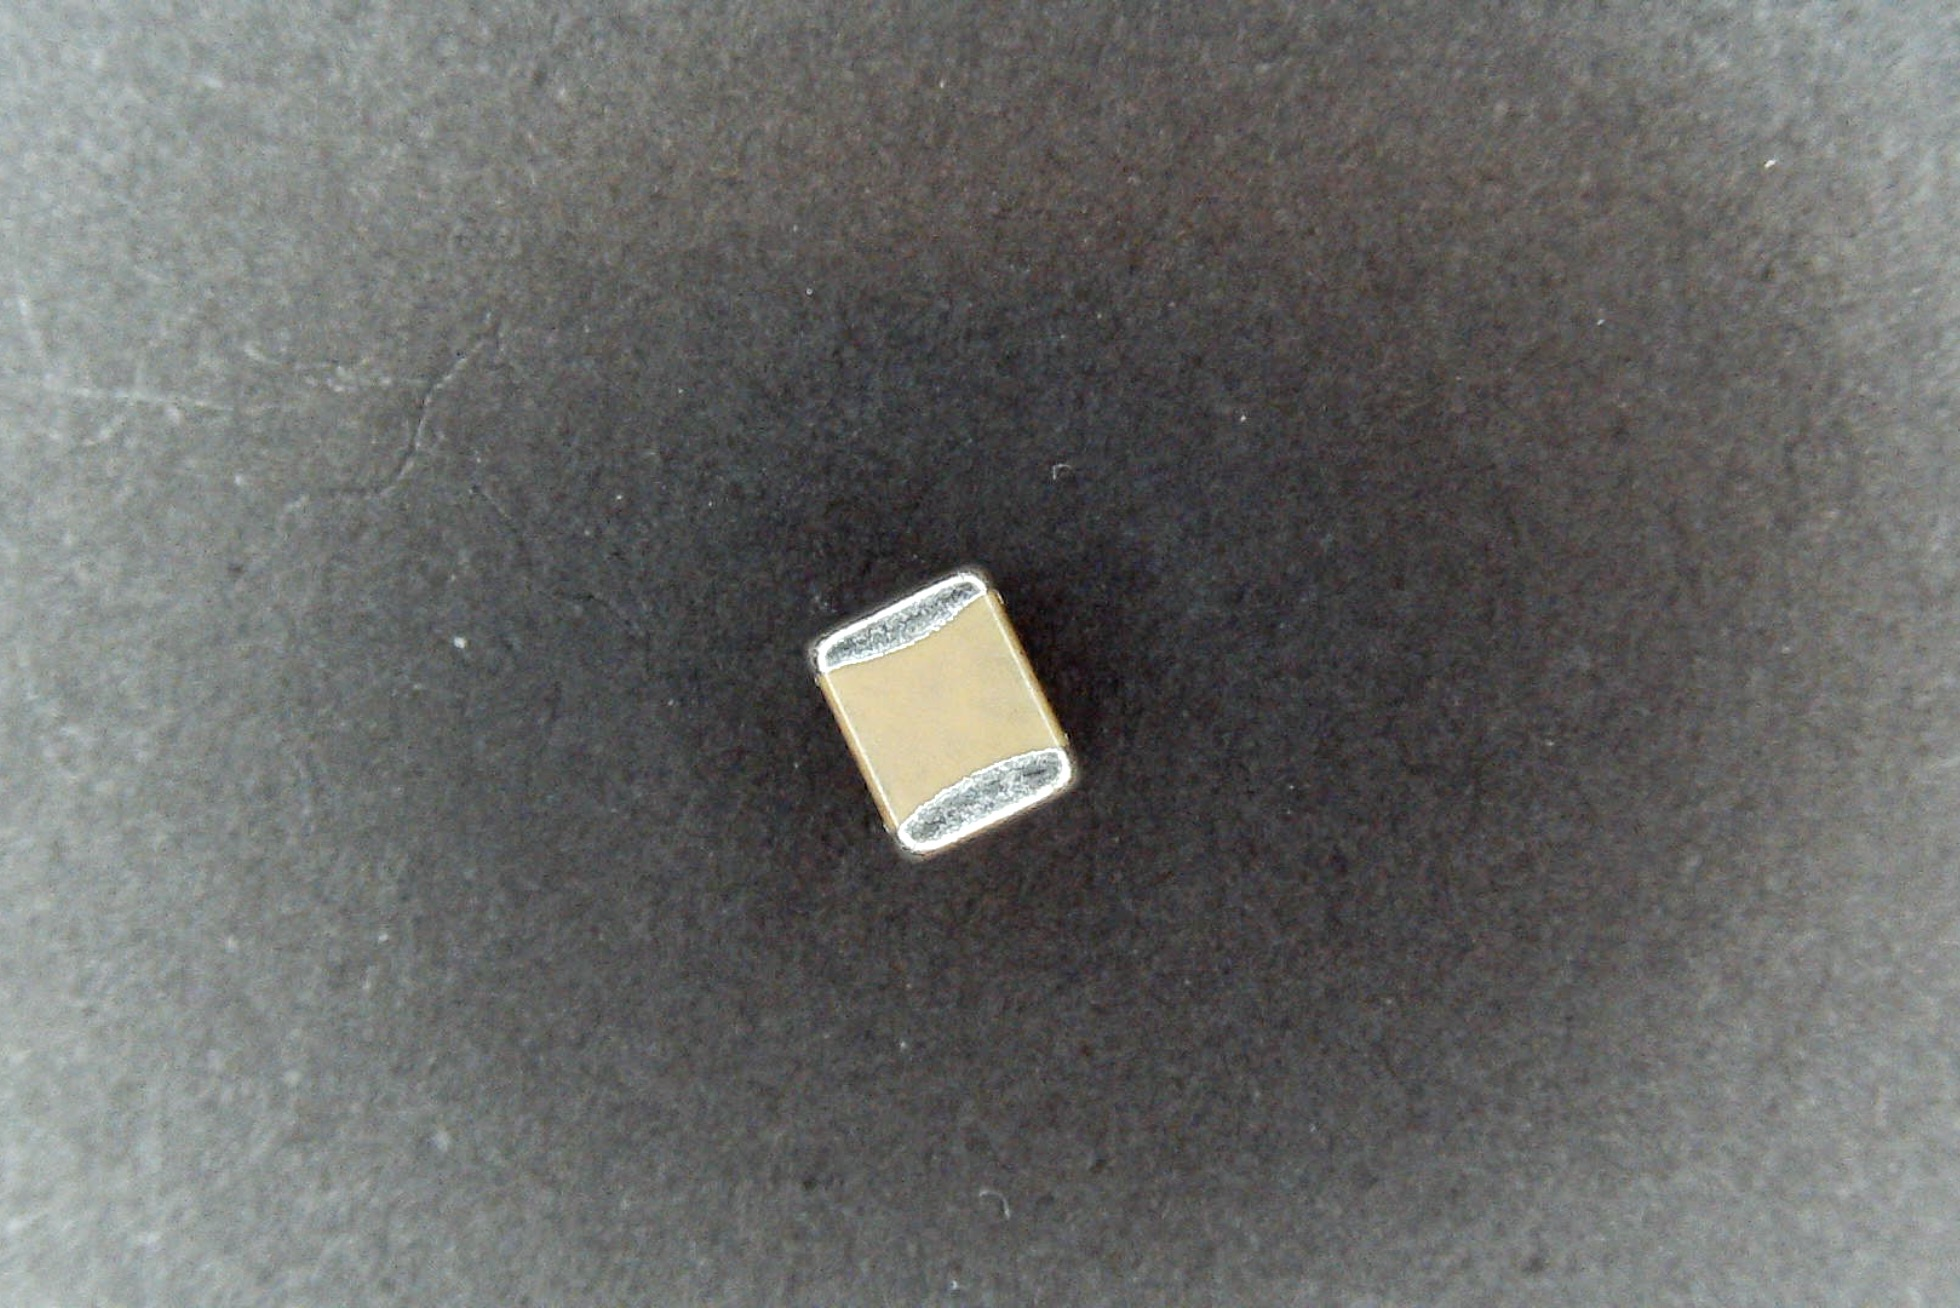bbox: (809, 562, 1087, 866)
